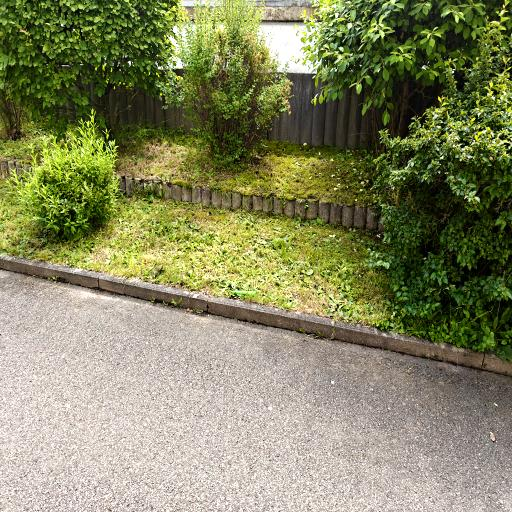Probe-Detection: (233, 290, 256, 296)
